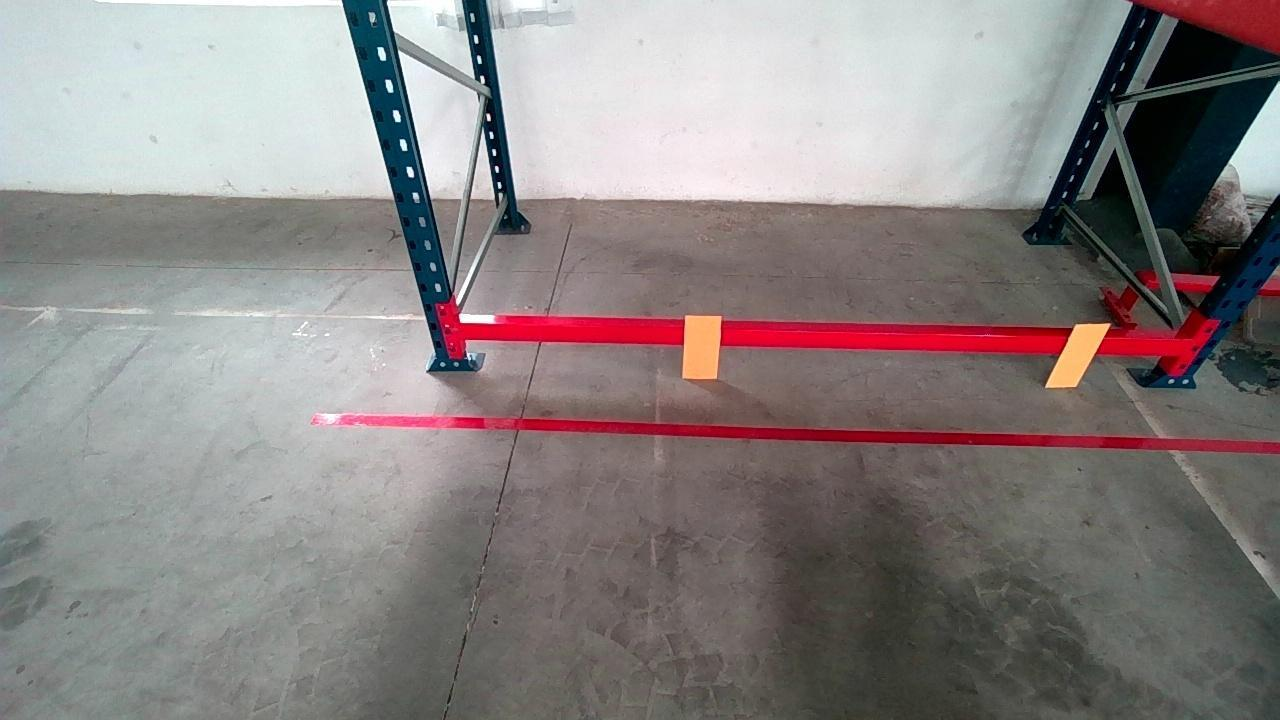h_rack: (462, 319, 1187, 359)
orange_strip: (1047, 322, 1113, 386), (684, 314, 721, 376)
red_line: (313, 408, 1279, 455)
